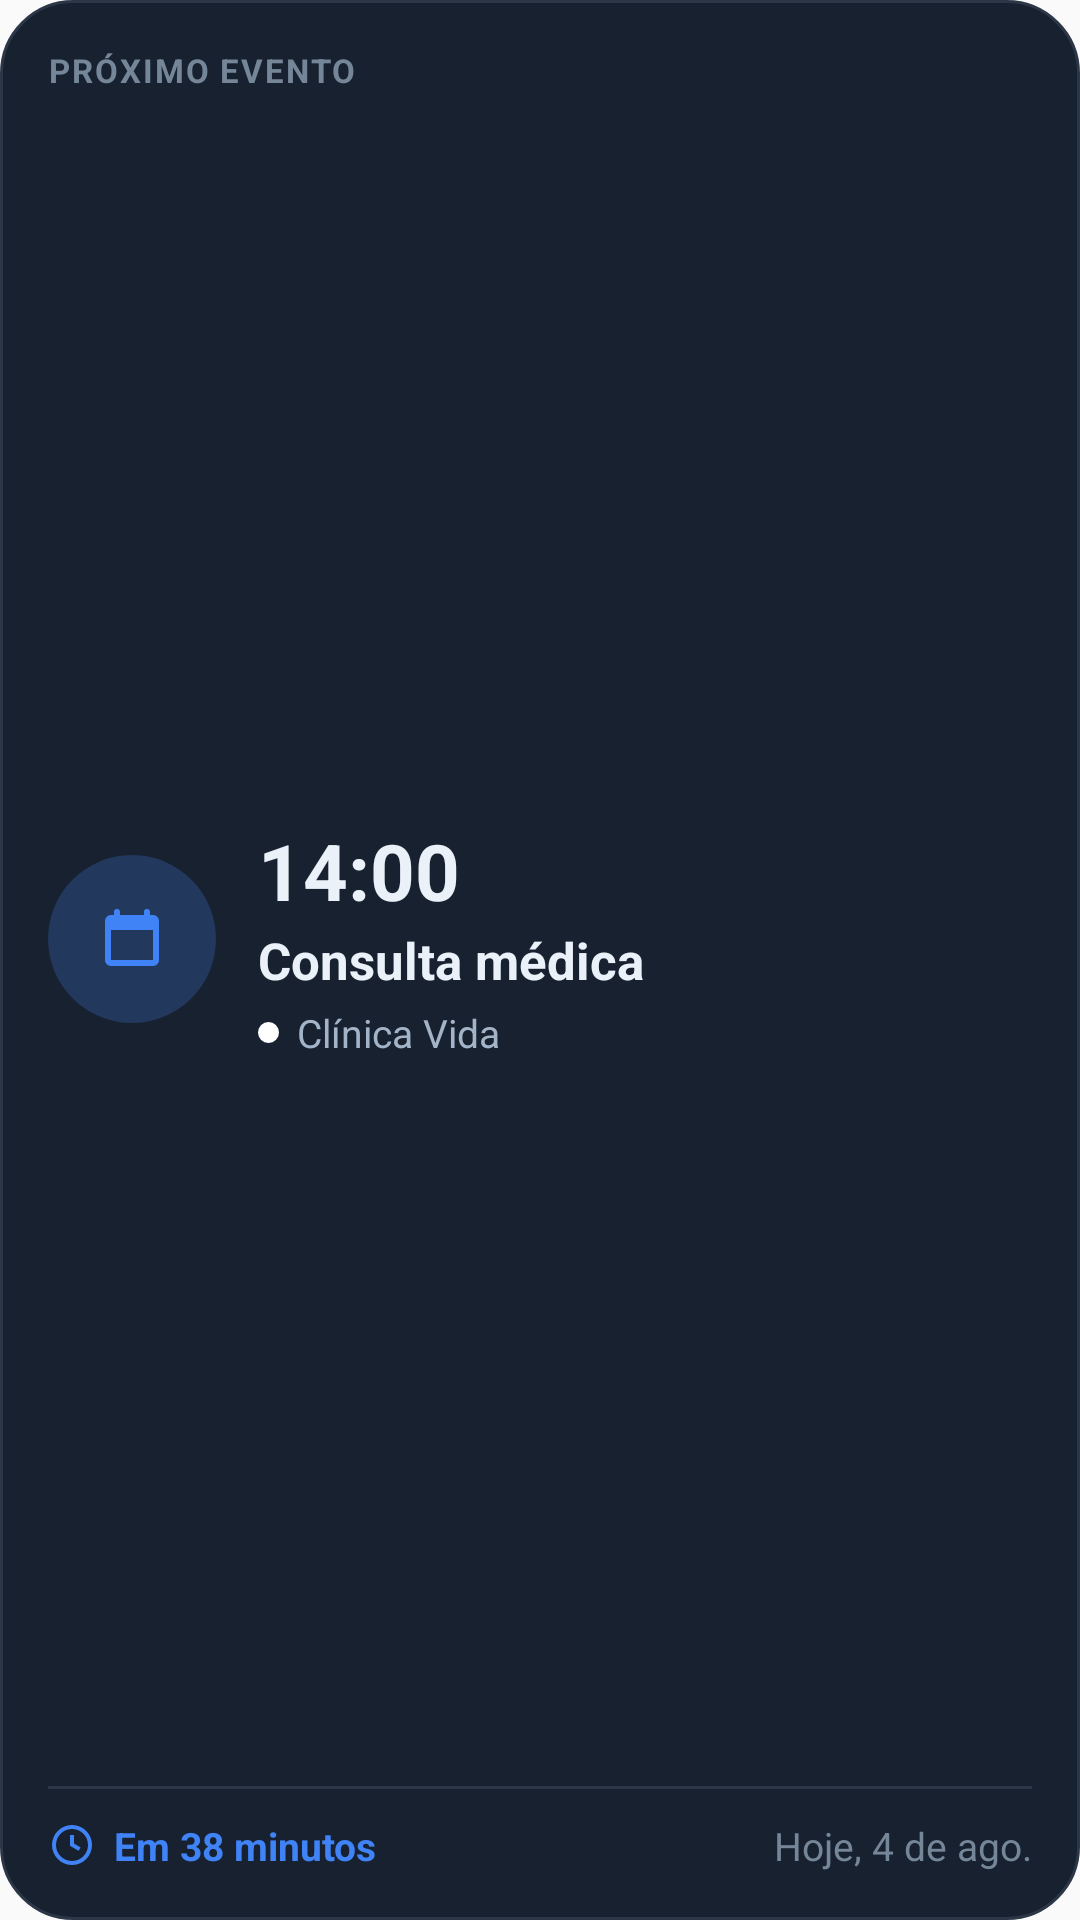

Icon click points for this 1080 x 1920 phone screenshot, format point (x, y):
widget clock: point (72, 1845)
widget event: point (132, 939)
